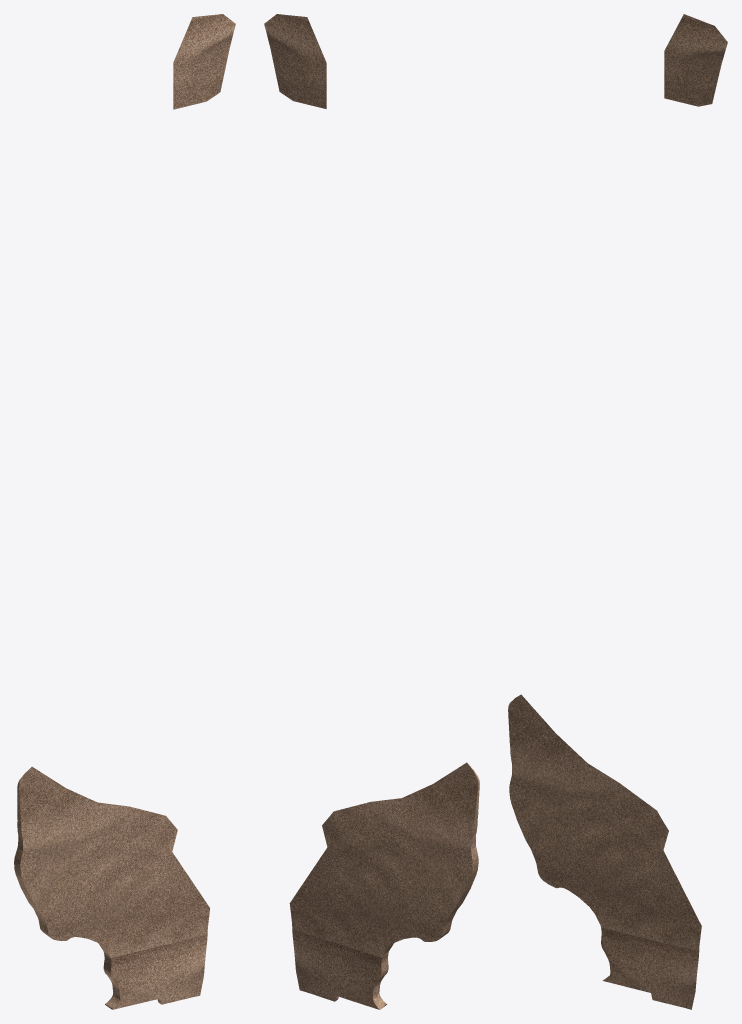
The picture shows the model from 3 angles, left to right: view 1: azimuth 30°, elevation 25°; view 2: azimuth 150°, elevation 25°; view 3: azimuth 330°, elevation 25°; orthographic projection.
Bounding box in the file's own units: 1935 × 8360 × 141.
Materials: 5 (5 with a texture image).
